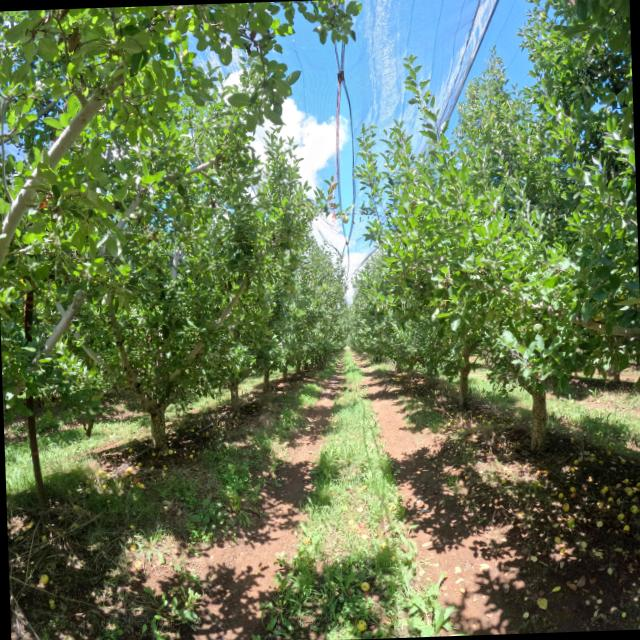-FireBlight-: (32, 10, 70, 26), (64, 27, 83, 55), (33, 185, 54, 209)
